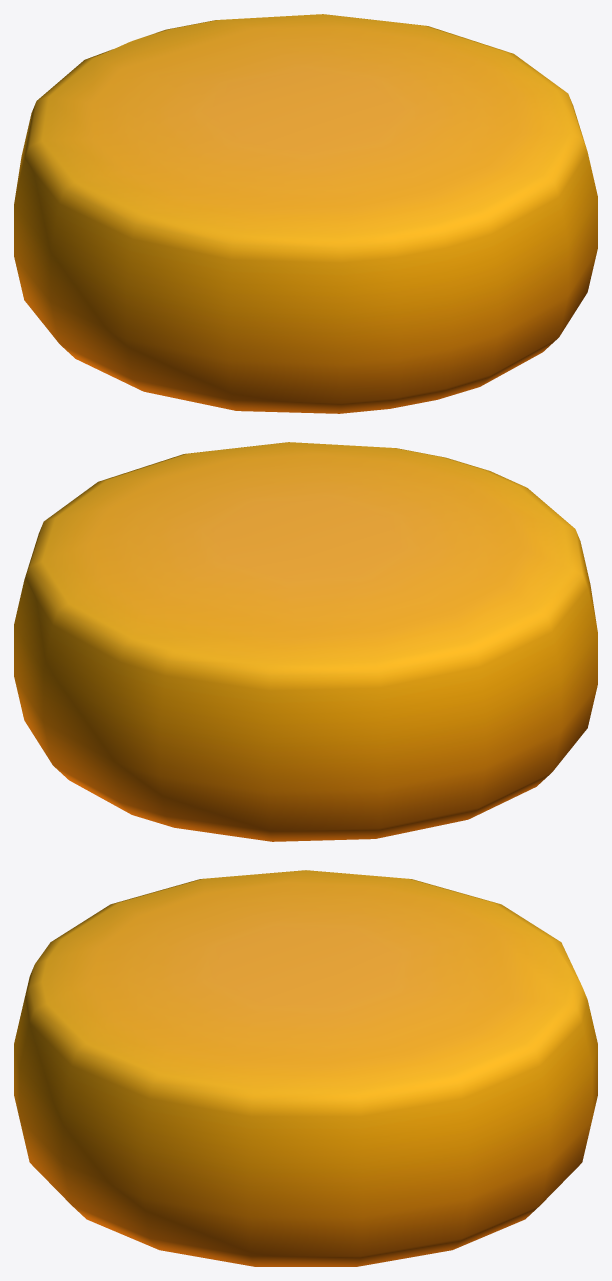
3 renders of one model, top to bottom at view 1: azimuth 30°, elevation 25°; view 2: azimuth 150°, elevation 25°; view 3: azimuth 270°, elevation 25°, orthographic.
Parts seen in each view (by area): view 1: 11-2; view 2: 11-2; view 3: 11-2.
Part boxes in pixels (x1,y1,x2,y2): 11-2: (14, 14, 597, 413); 11-2: (14, 442, 597, 841); 11-2: (14, 870, 597, 1266).
Size of the model in its own units: 23.35 by 8.5 by 23.58.
